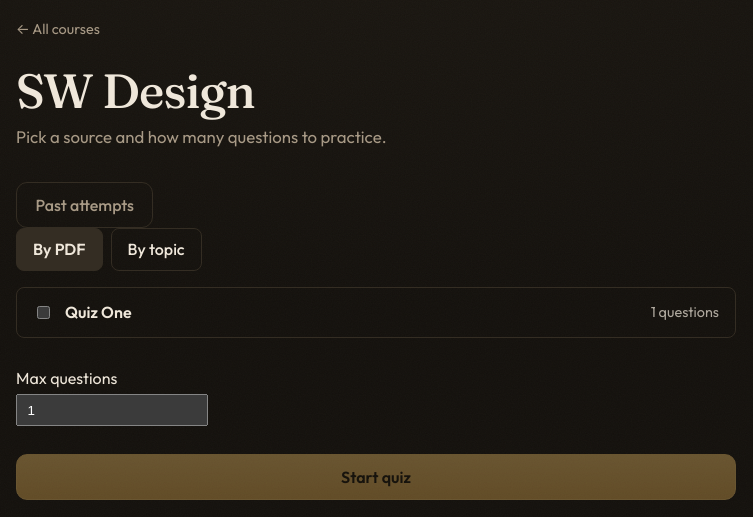
Test case: CoursePage › starts a quiz from a selected PDF
Click the checkbox labelled "Quiz One 1 questions".
click(44, 312)  # box top-left (37, 306), bottom-right (50, 319)
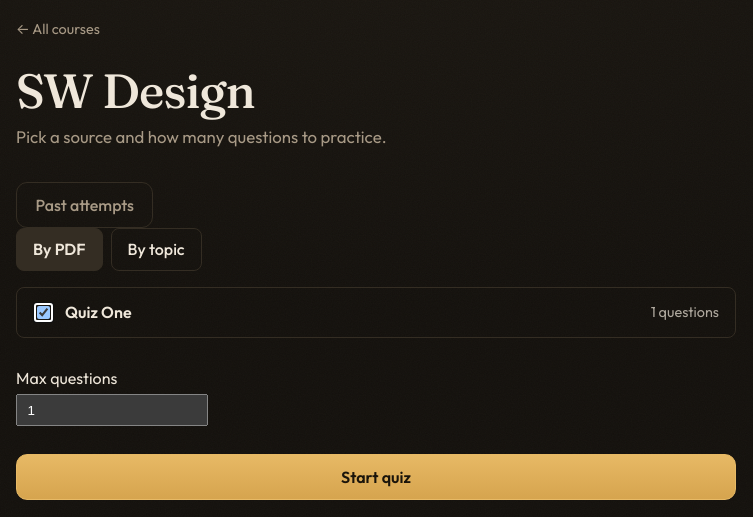
Click the button "Start quiz".
click(376, 477)  # box top-left (16, 454), bottom-right (736, 500)
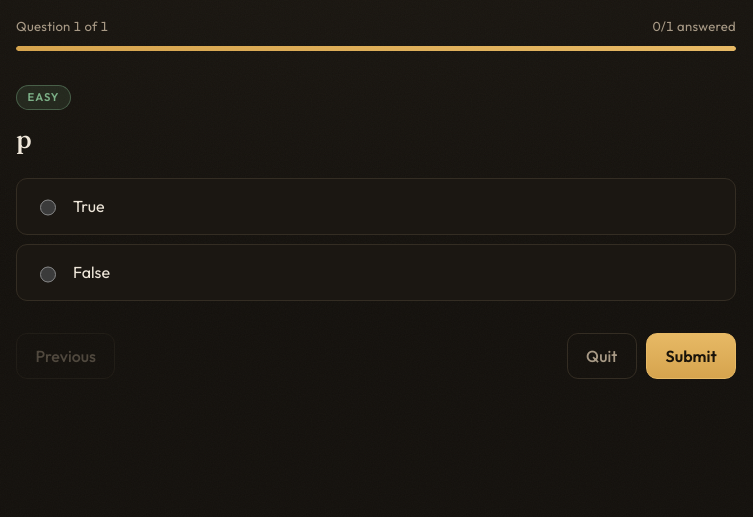
Expected: the text "Question 1 of 1" is shown, top-left (16, 16), bottom-right (108, 36)
